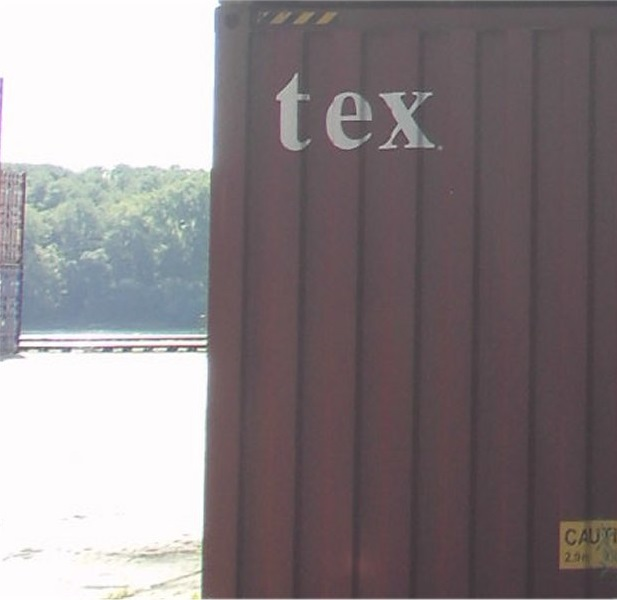container_no_door: (225, 5, 614, 597)
